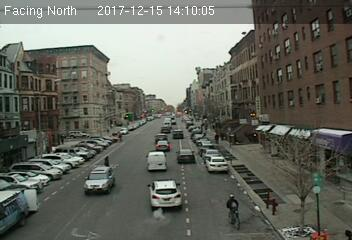bicycle: (225, 193, 242, 231)
car: (147, 179, 184, 210), (83, 165, 114, 195), (205, 156, 228, 173), (175, 149, 196, 164), (155, 140, 169, 150), (171, 129, 184, 139)
truck: (1, 187, 30, 232), (146, 152, 166, 170)
